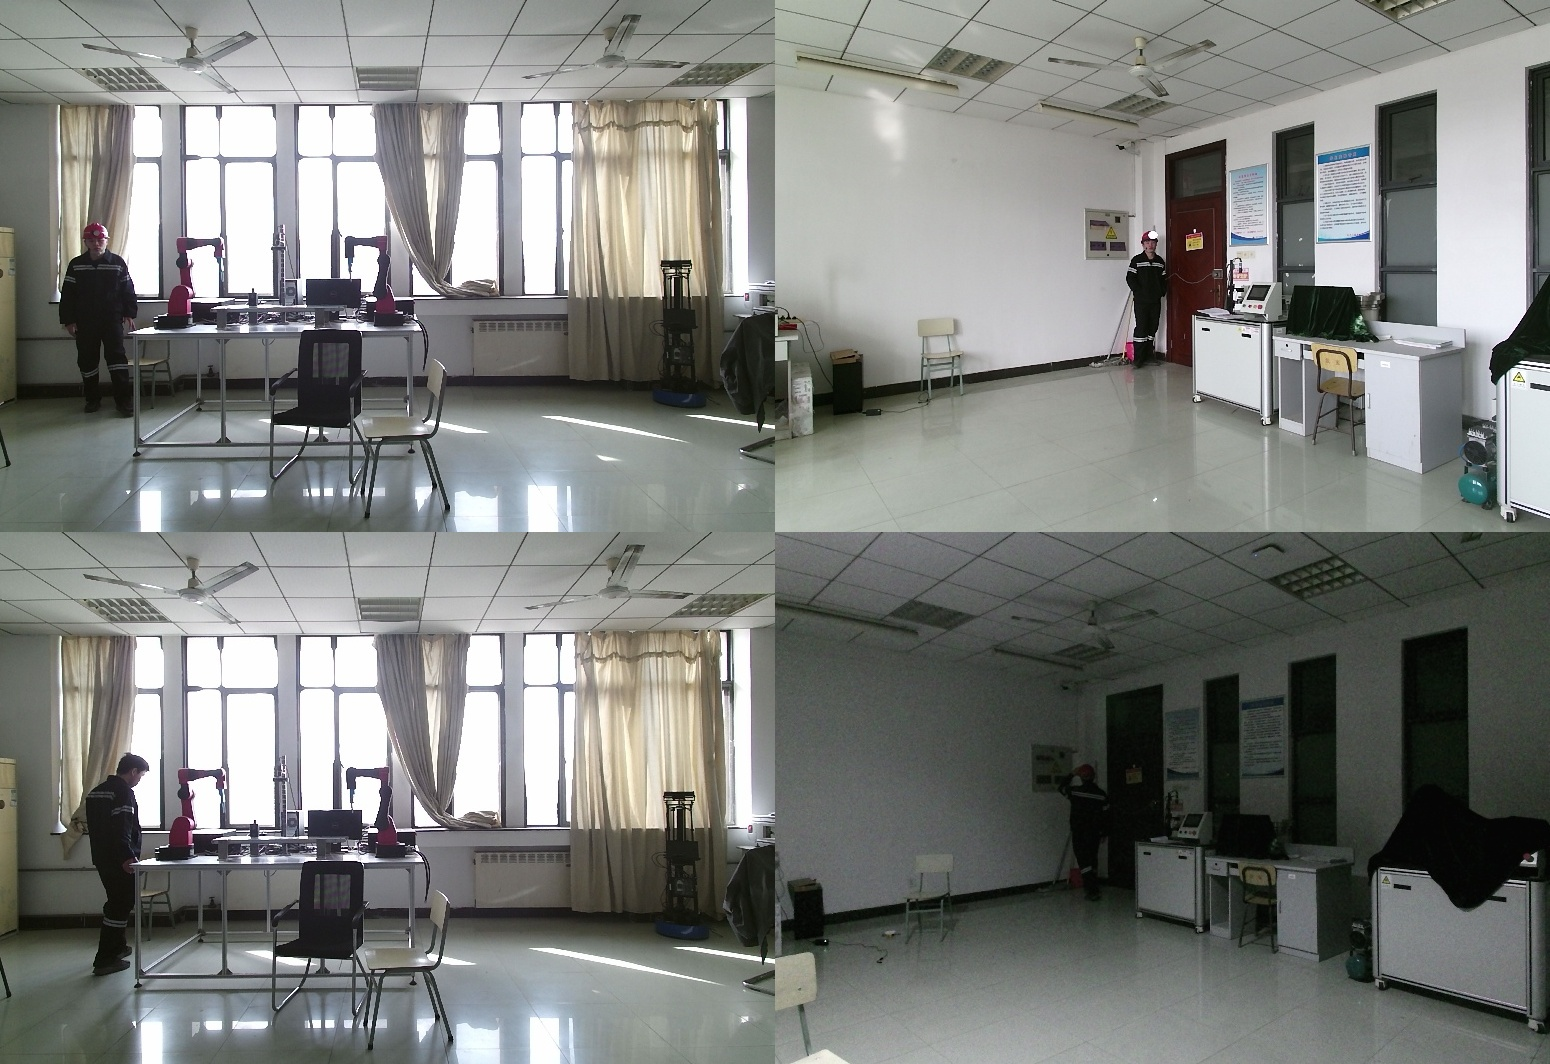person: (57, 224, 137, 416), (83, 755, 150, 977), (1056, 768, 1118, 904), (1124, 232, 1167, 371)
